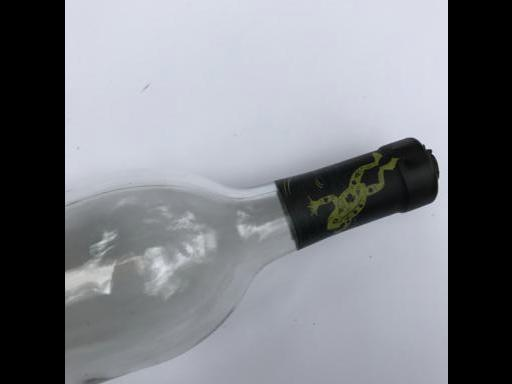alcohol: (65, 135, 440, 384)
glass: (65, 135, 440, 384)
sodocalcique: (65, 135, 440, 384)
